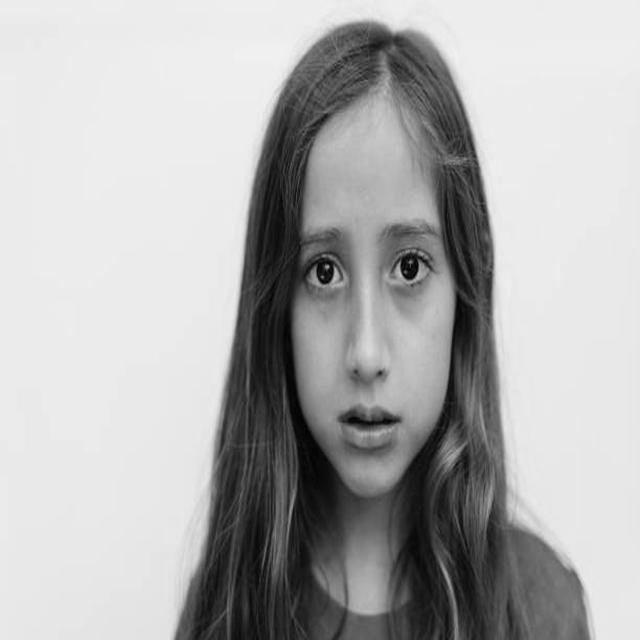Fear: (292, 96, 455, 497)
